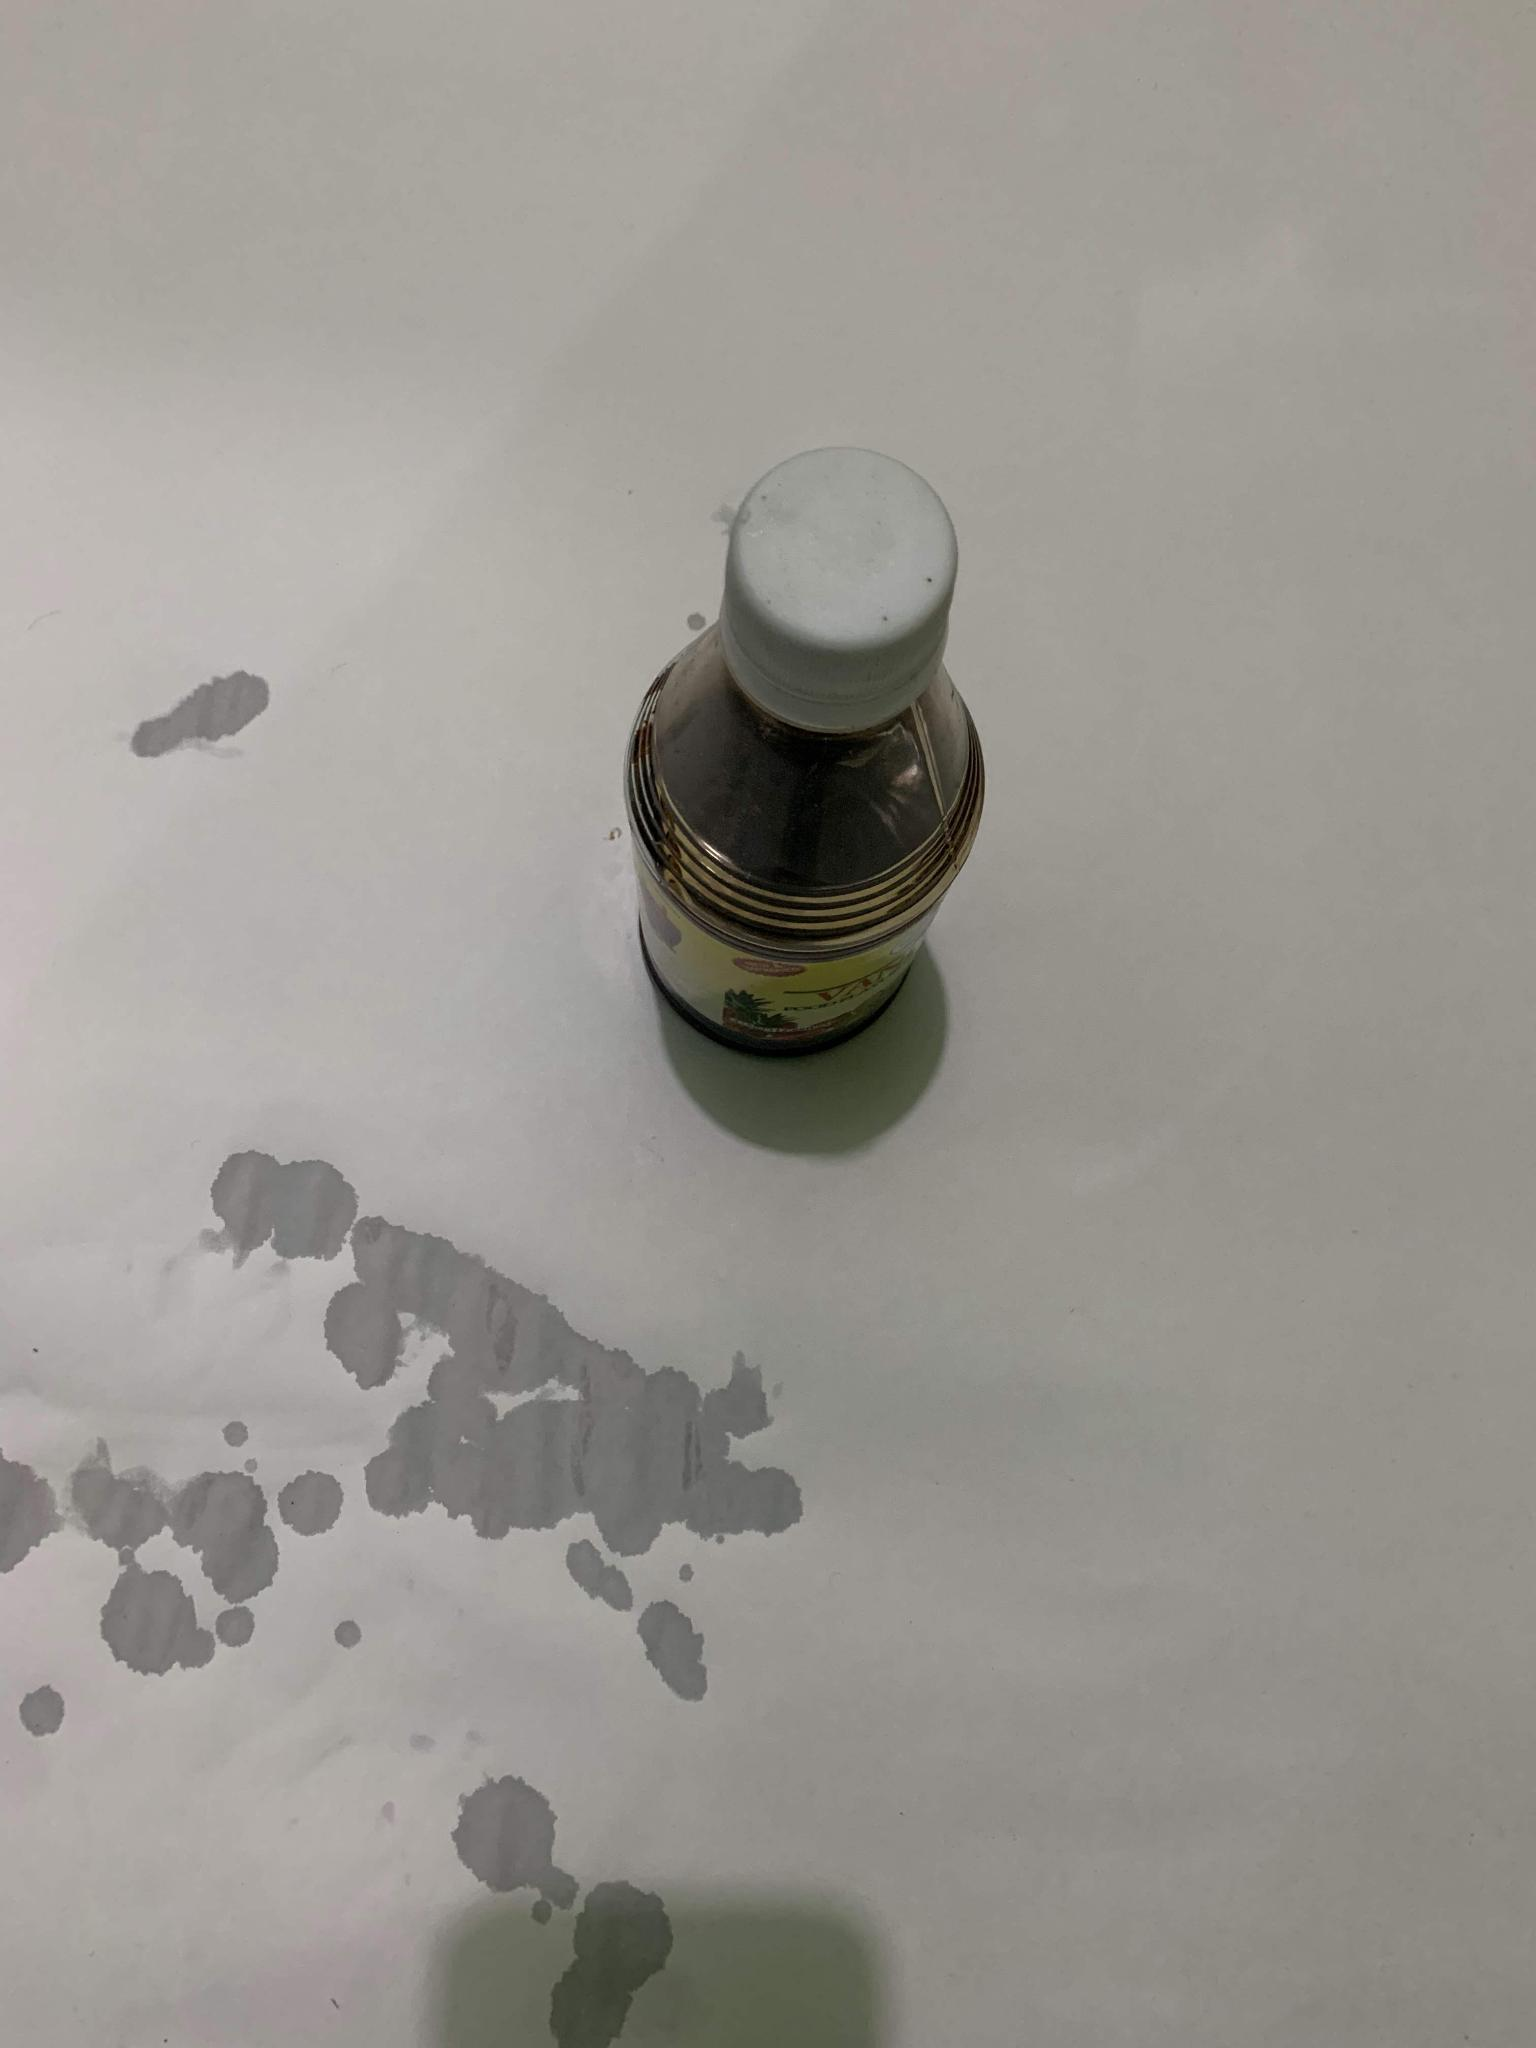bottle: (589, 431, 1020, 1080)
